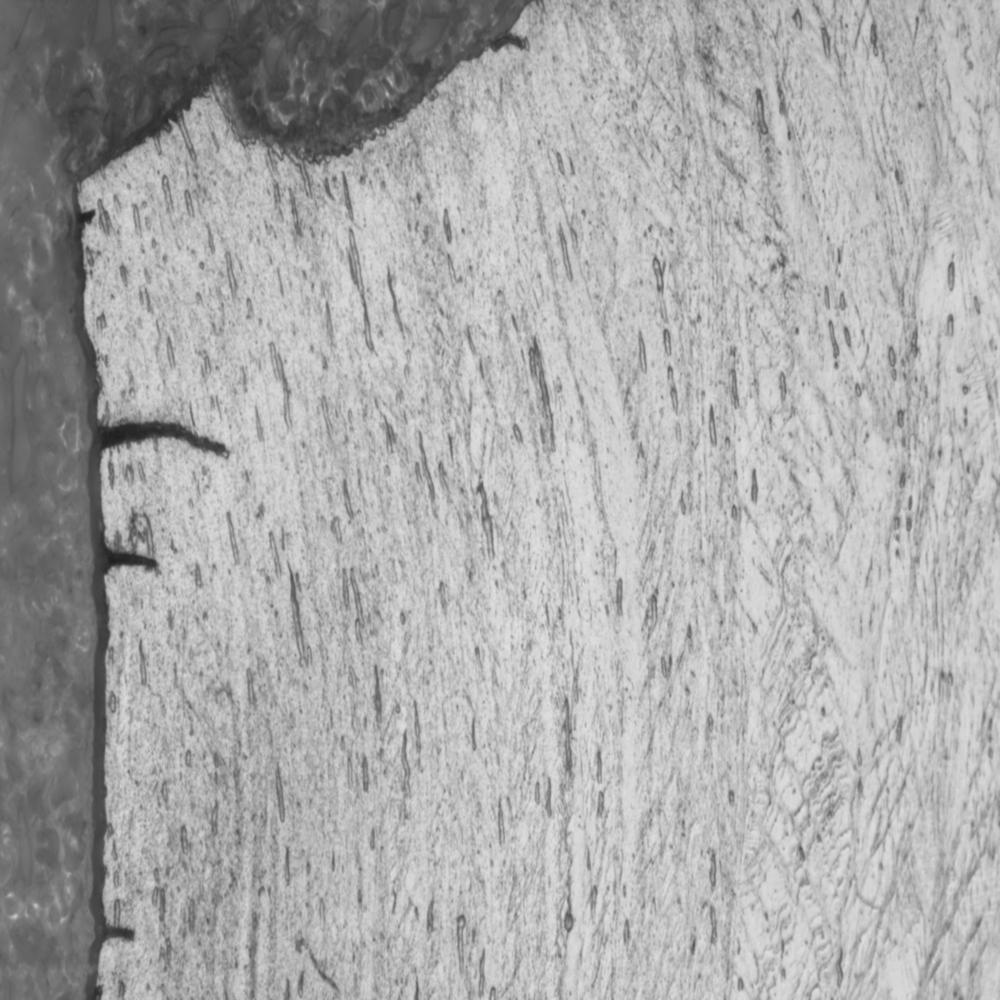crack: (71, 416, 248, 485), (81, 539, 169, 596), (93, 916, 143, 951)
